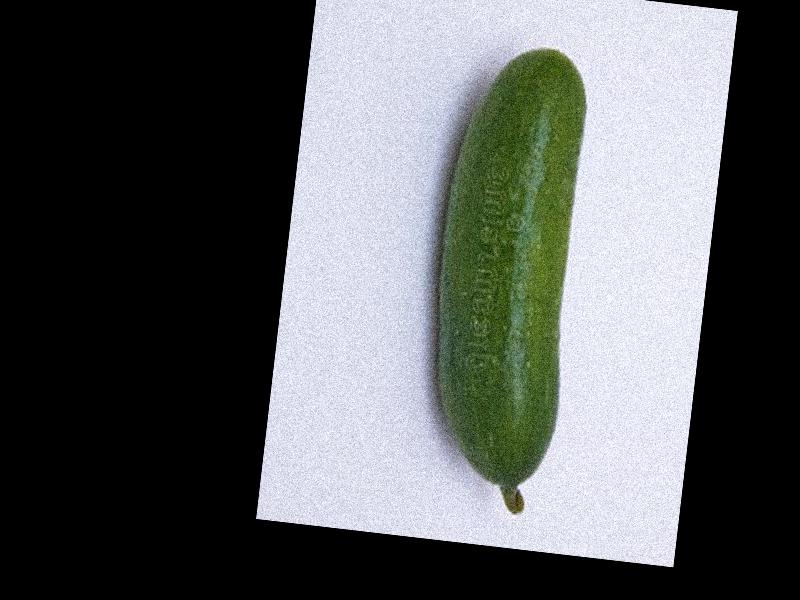Cucumber: (412, 38, 598, 517)
